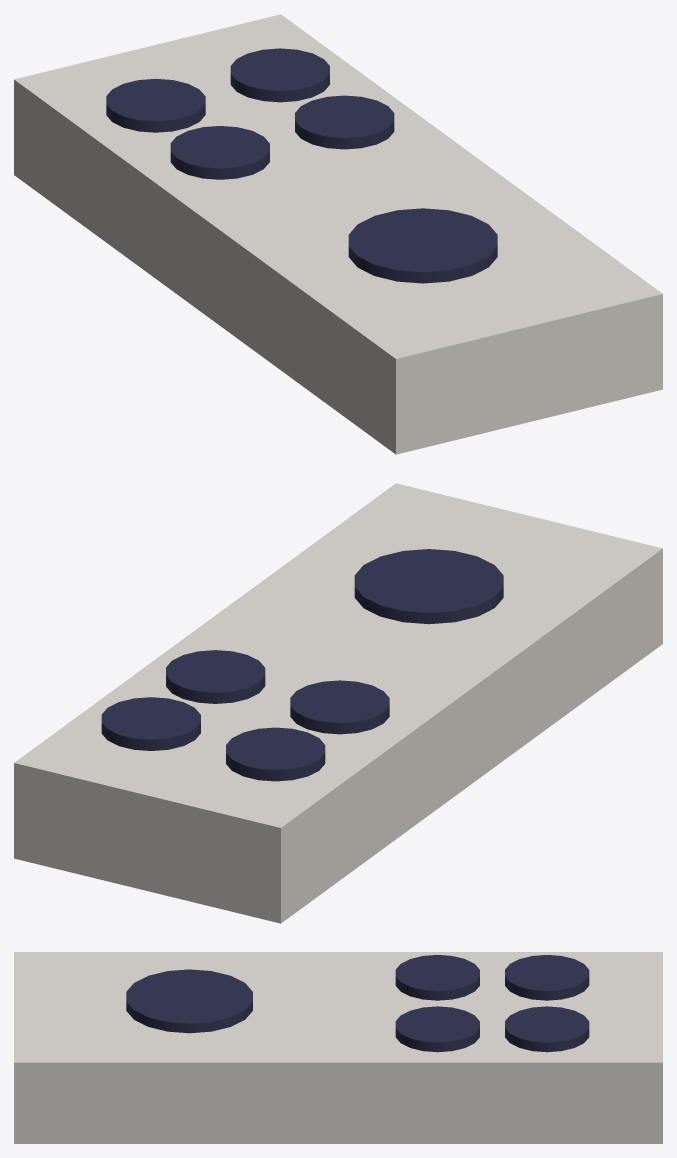
3 views of the same model, one above another, from view 1: azimuth 30°, elevation 25°; view 2: azimuth 150°, elevation 25°; view 3: azimuth 270°, elevation 25° (orthographic). The views are drawn at different scales.
Visible parts, largest first — view 1: BOX; view 2: BOX; view 3: BOX.
Part boxes in pixels (left/top/right/bottom): BOX: left=14, top=14, right=662, bottom=454; BOX: left=14, top=483, right=662, bottom=923; BOX: left=14, top=952, right=662, bottom=1143.
Size of the model in its own units: 248 by 94.78 by 614.
